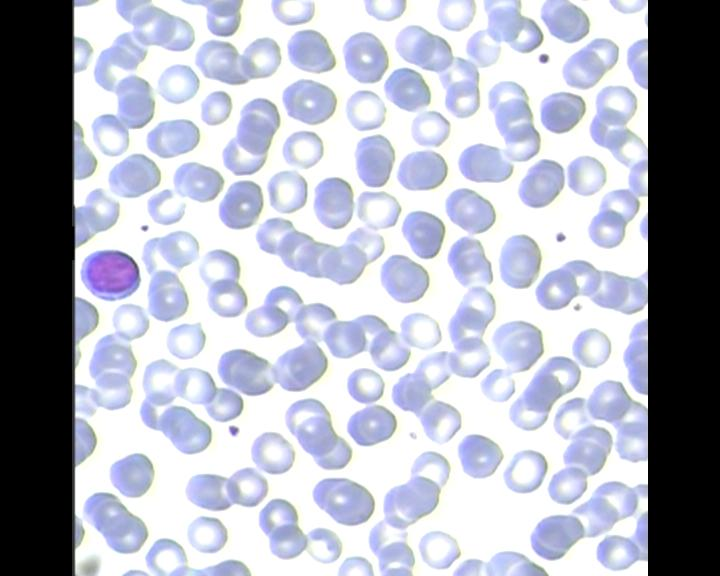lymp: (80, 249, 147, 306)
